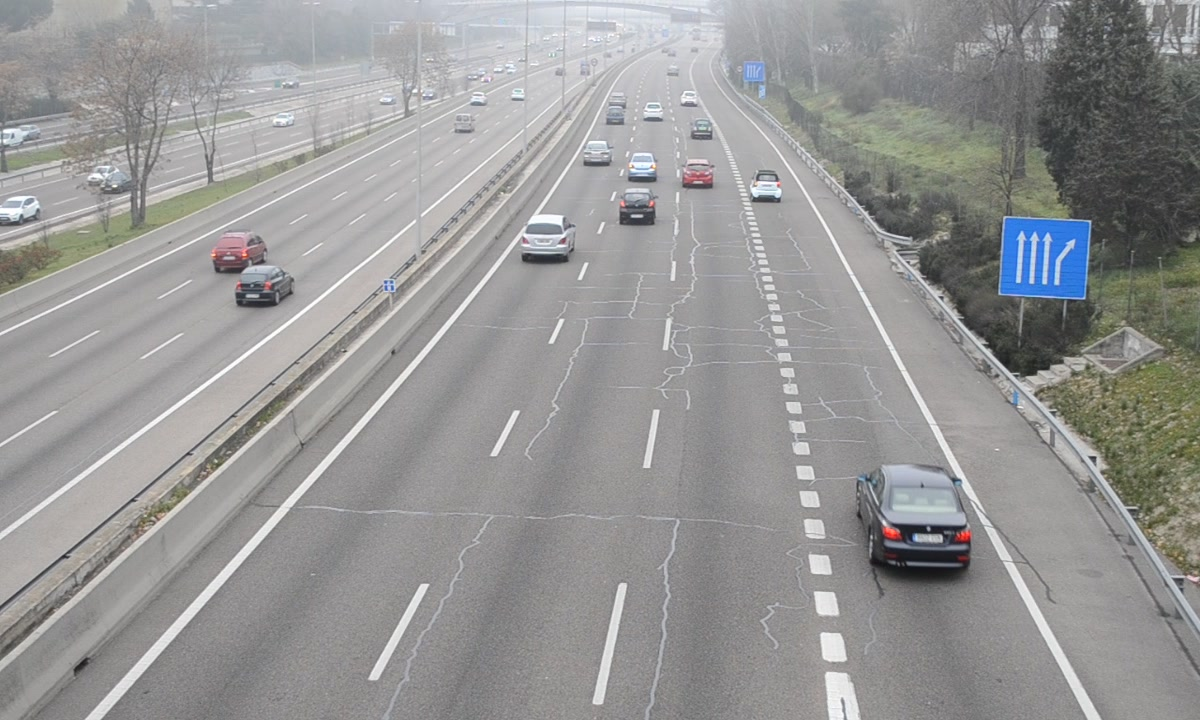car: (858, 463, 972, 577), (520, 212, 576, 259), (617, 187, 657, 227), (749, 168, 783, 204), (681, 158, 716, 191), (627, 151, 659, 183), (581, 139, 612, 166), (689, 117, 713, 141)
